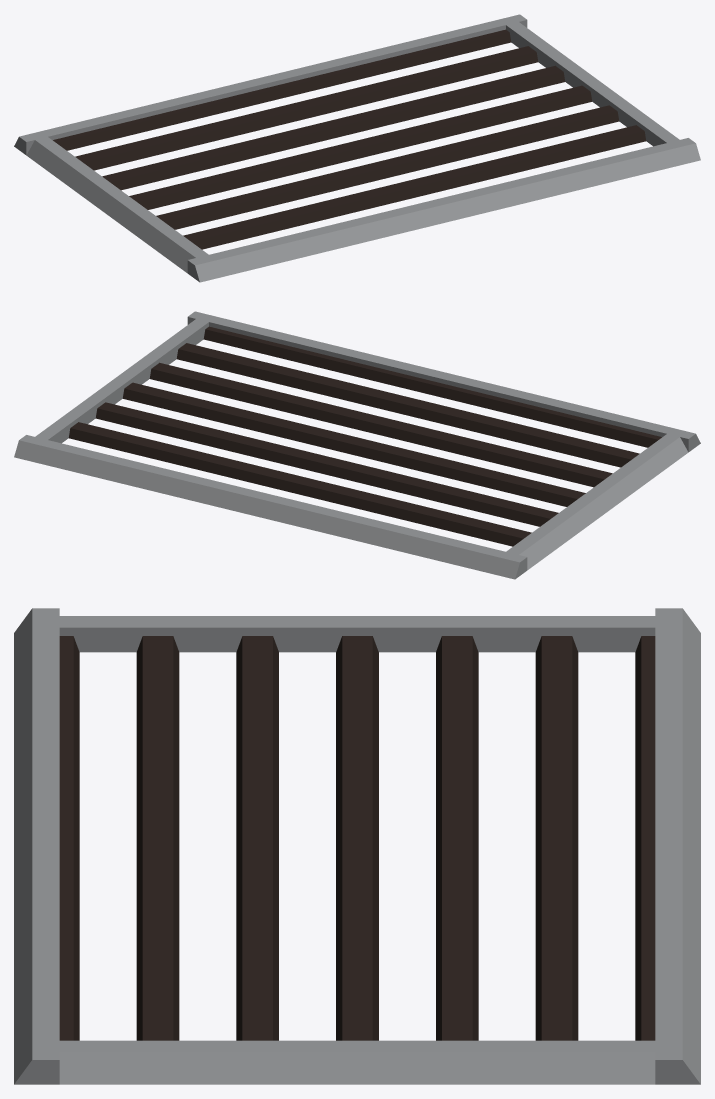
The model's file is FN_Mat_Scraper.obj.
3 views of the same model, one above another, from view 1: azimuth 30°, elevation 25°; view 2: azimuth 150°, elevation 25°; view 3: azimuth 270°, elevation 25° (orthographic). The views are drawn at different scales.
Visible parts, largest first — view 1: FN_Mat_Scraper; view 2: FN_Mat_Scraper; view 3: FN_Mat_Scraper.
Boxes of the visible parts, x1,y1,x2,y2 form: FN_Mat_Scraper: [14, 14, 700, 282]; FN_Mat_Scraper: [14, 311, 700, 579]; FN_Mat_Scraper: [14, 608, 700, 1084].
Bounding box in the file's own units: 0.7 × 0.018 × 0.45.
1 material, 1 textured.
